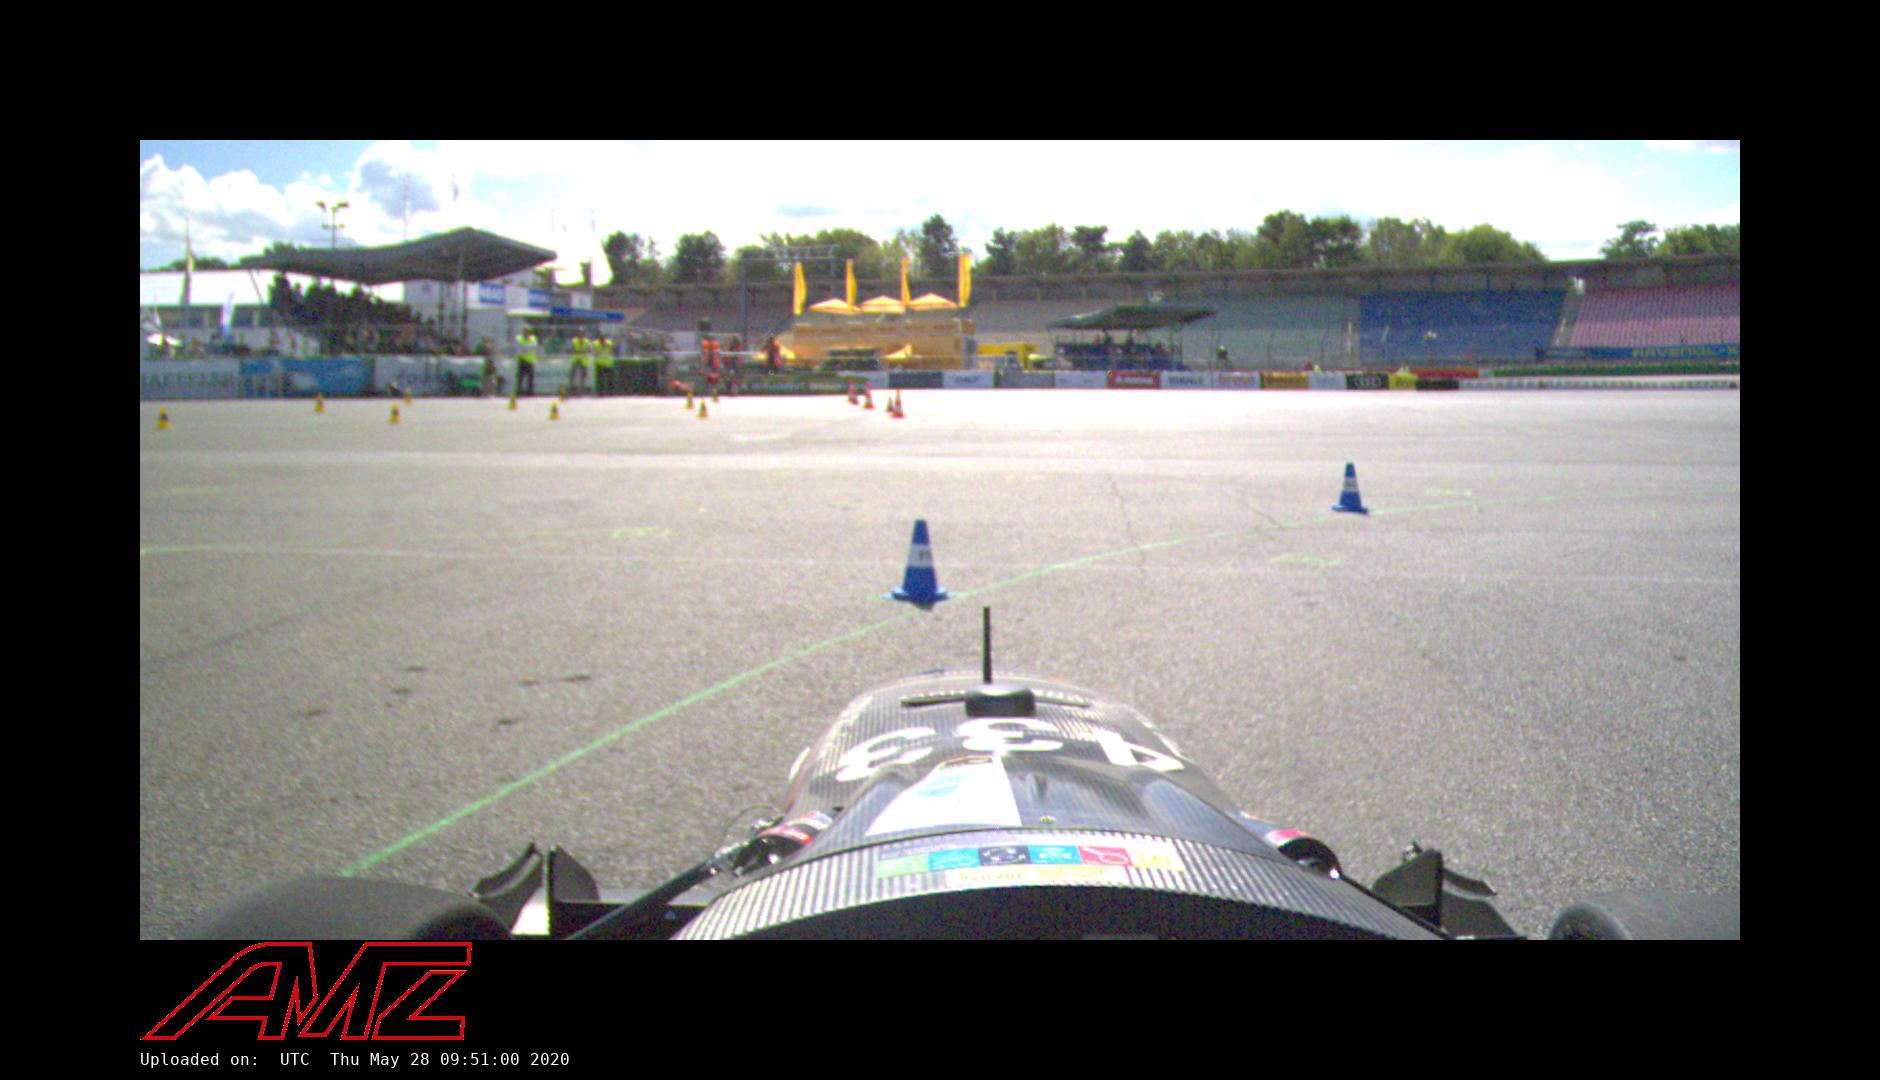blue_cone: (886, 519, 957, 604), (1331, 462, 1371, 512)
large_orange_cone: (891, 389, 905, 418), (862, 383, 876, 409), (847, 380, 856, 401)
orange_cone: (885, 396, 894, 412), (851, 390, 860, 404)
yellow_cone: (155, 407, 172, 430), (313, 393, 327, 413), (388, 403, 402, 422), (548, 402, 561, 420), (697, 400, 709, 418), (507, 394, 518, 410)
